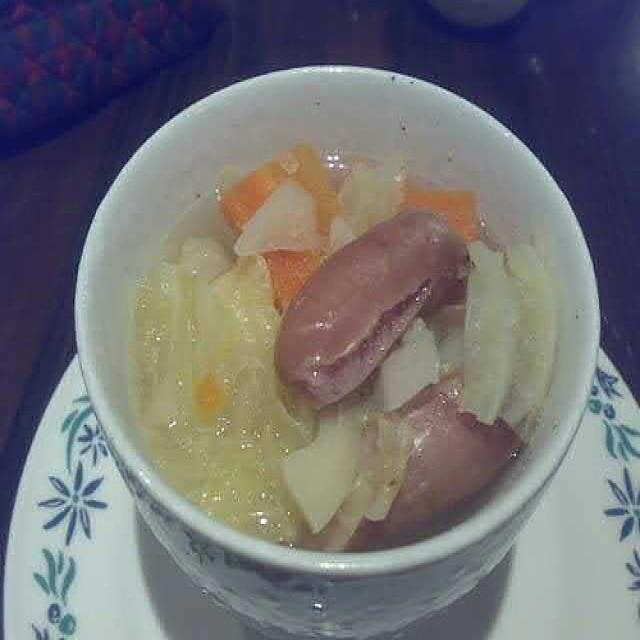汤锅炖物: (61, 49, 612, 590)
